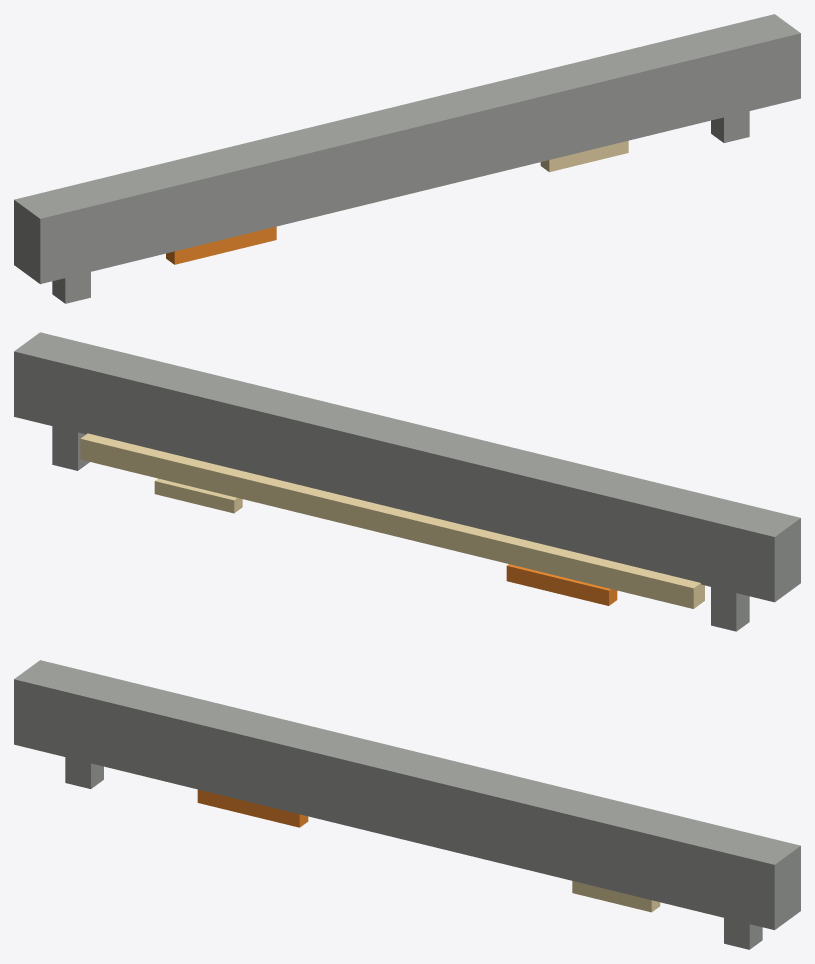
Rendered from overbed_light.obj.
3 renders of one model, top to bottom at view 1: azimuth 30°, elevation 25°; view 2: azimuth 150°, elevation 25°; view 3: azimuth 330°, elevation 25°, orthographic.
Visible parts, largest first — view 1: ward_overbed_light; view 2: ward_overbed_light; view 3: ward_overbed_light.
Part boxes in pixels (x1,y1,x2,y2): ward_overbed_light: (14, 14, 800, 303); ward_overbed_light: (14, 332, 800, 631); ward_overbed_light: (14, 660, 800, 949).
Bounding box in the file's own units: 1.34 × 0.175 × 0.1025.
